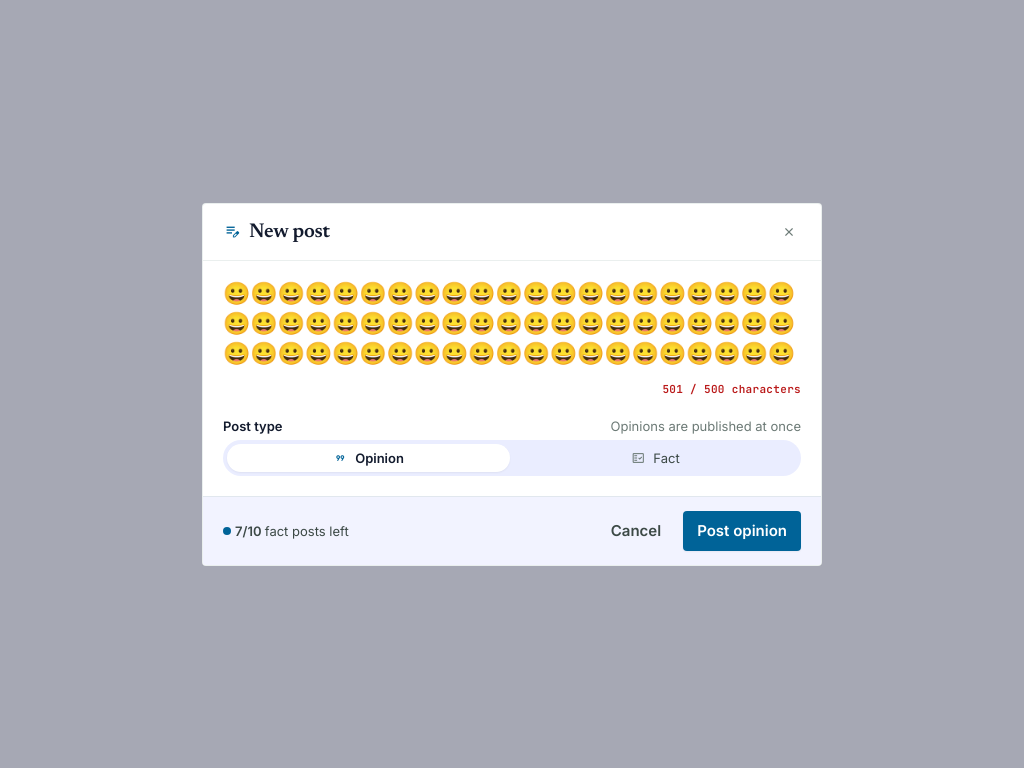
Scenario: ComposerModal: client validation › blocks more than 500 characters, counting an emoji as one
Click the button "Post opinion" at (742, 530), box [683,510,801,550]
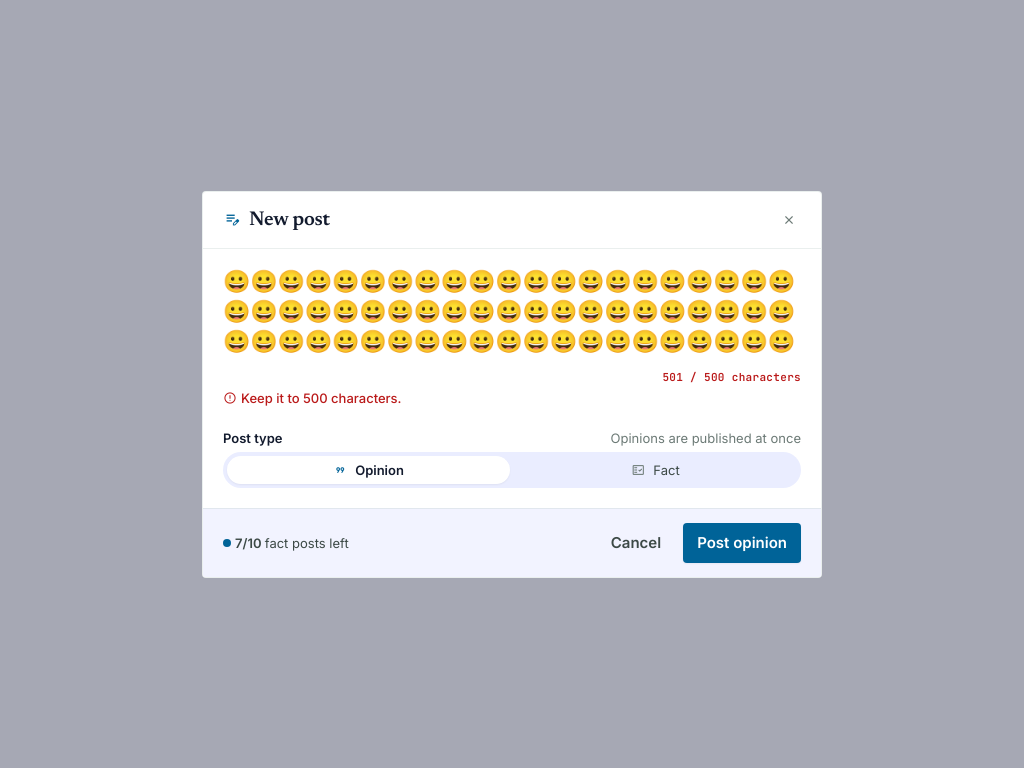
Now the text "Keep it to 500 characters." is shown, box [223,390,402,406]
